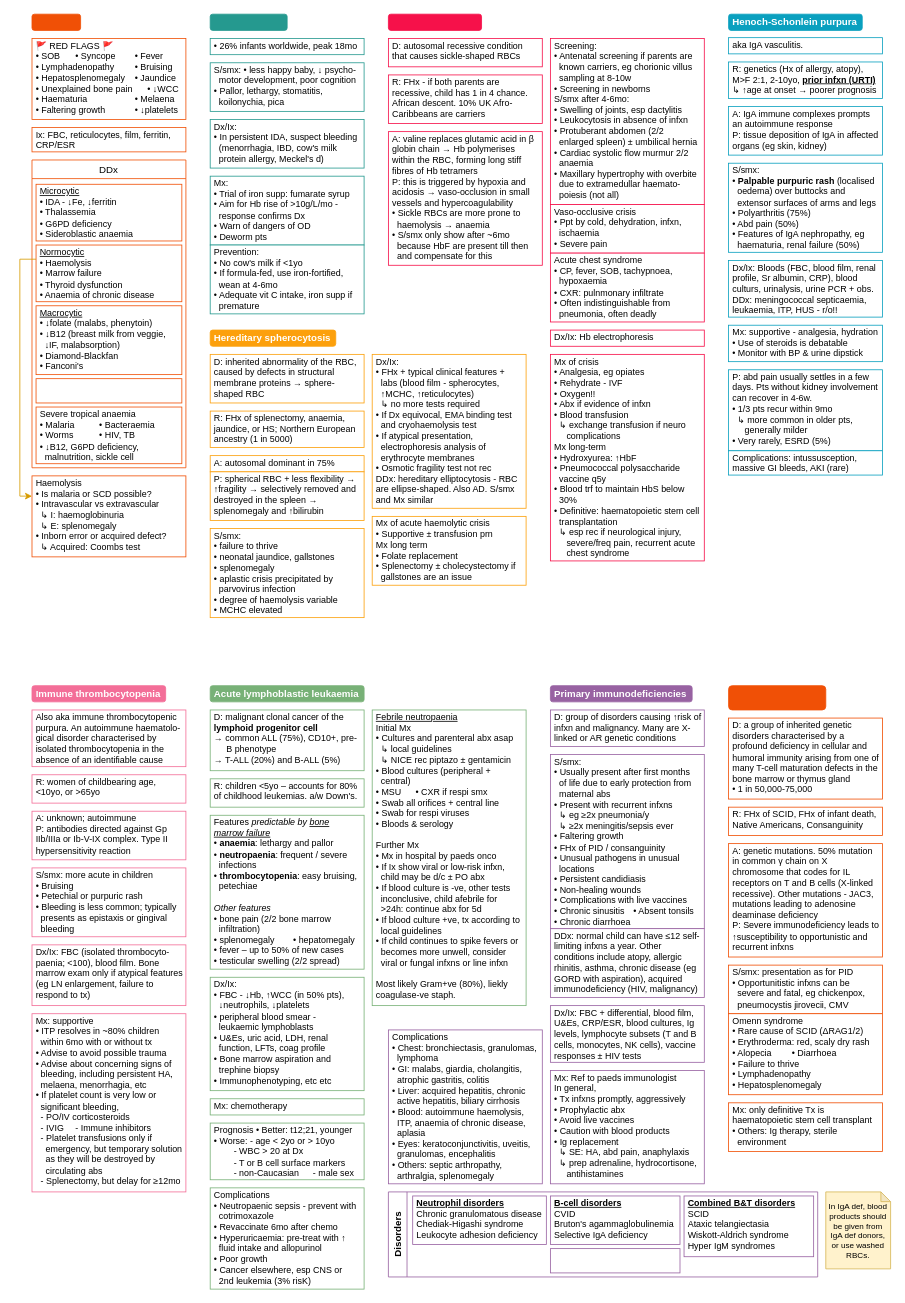
Some shapes in this 905 by 1303 pixel diagram are drawn without their labels. Here are the shapes that lost their labels. From the top down, the centre of each, then its label:
At [56,21]: "Anaemia".
At [248,21]: "IDA in children".
At [435,21]: "Sickle cell disease".
At [108,390]: "Eosinophilia + tropics → ?helminth infxn (hookworm, roundworm, etc)".
At [777,697]: "Severe combined immunodeficiency".
At [615,1260]: "T-cell disorders DiGeorge syndrome".
